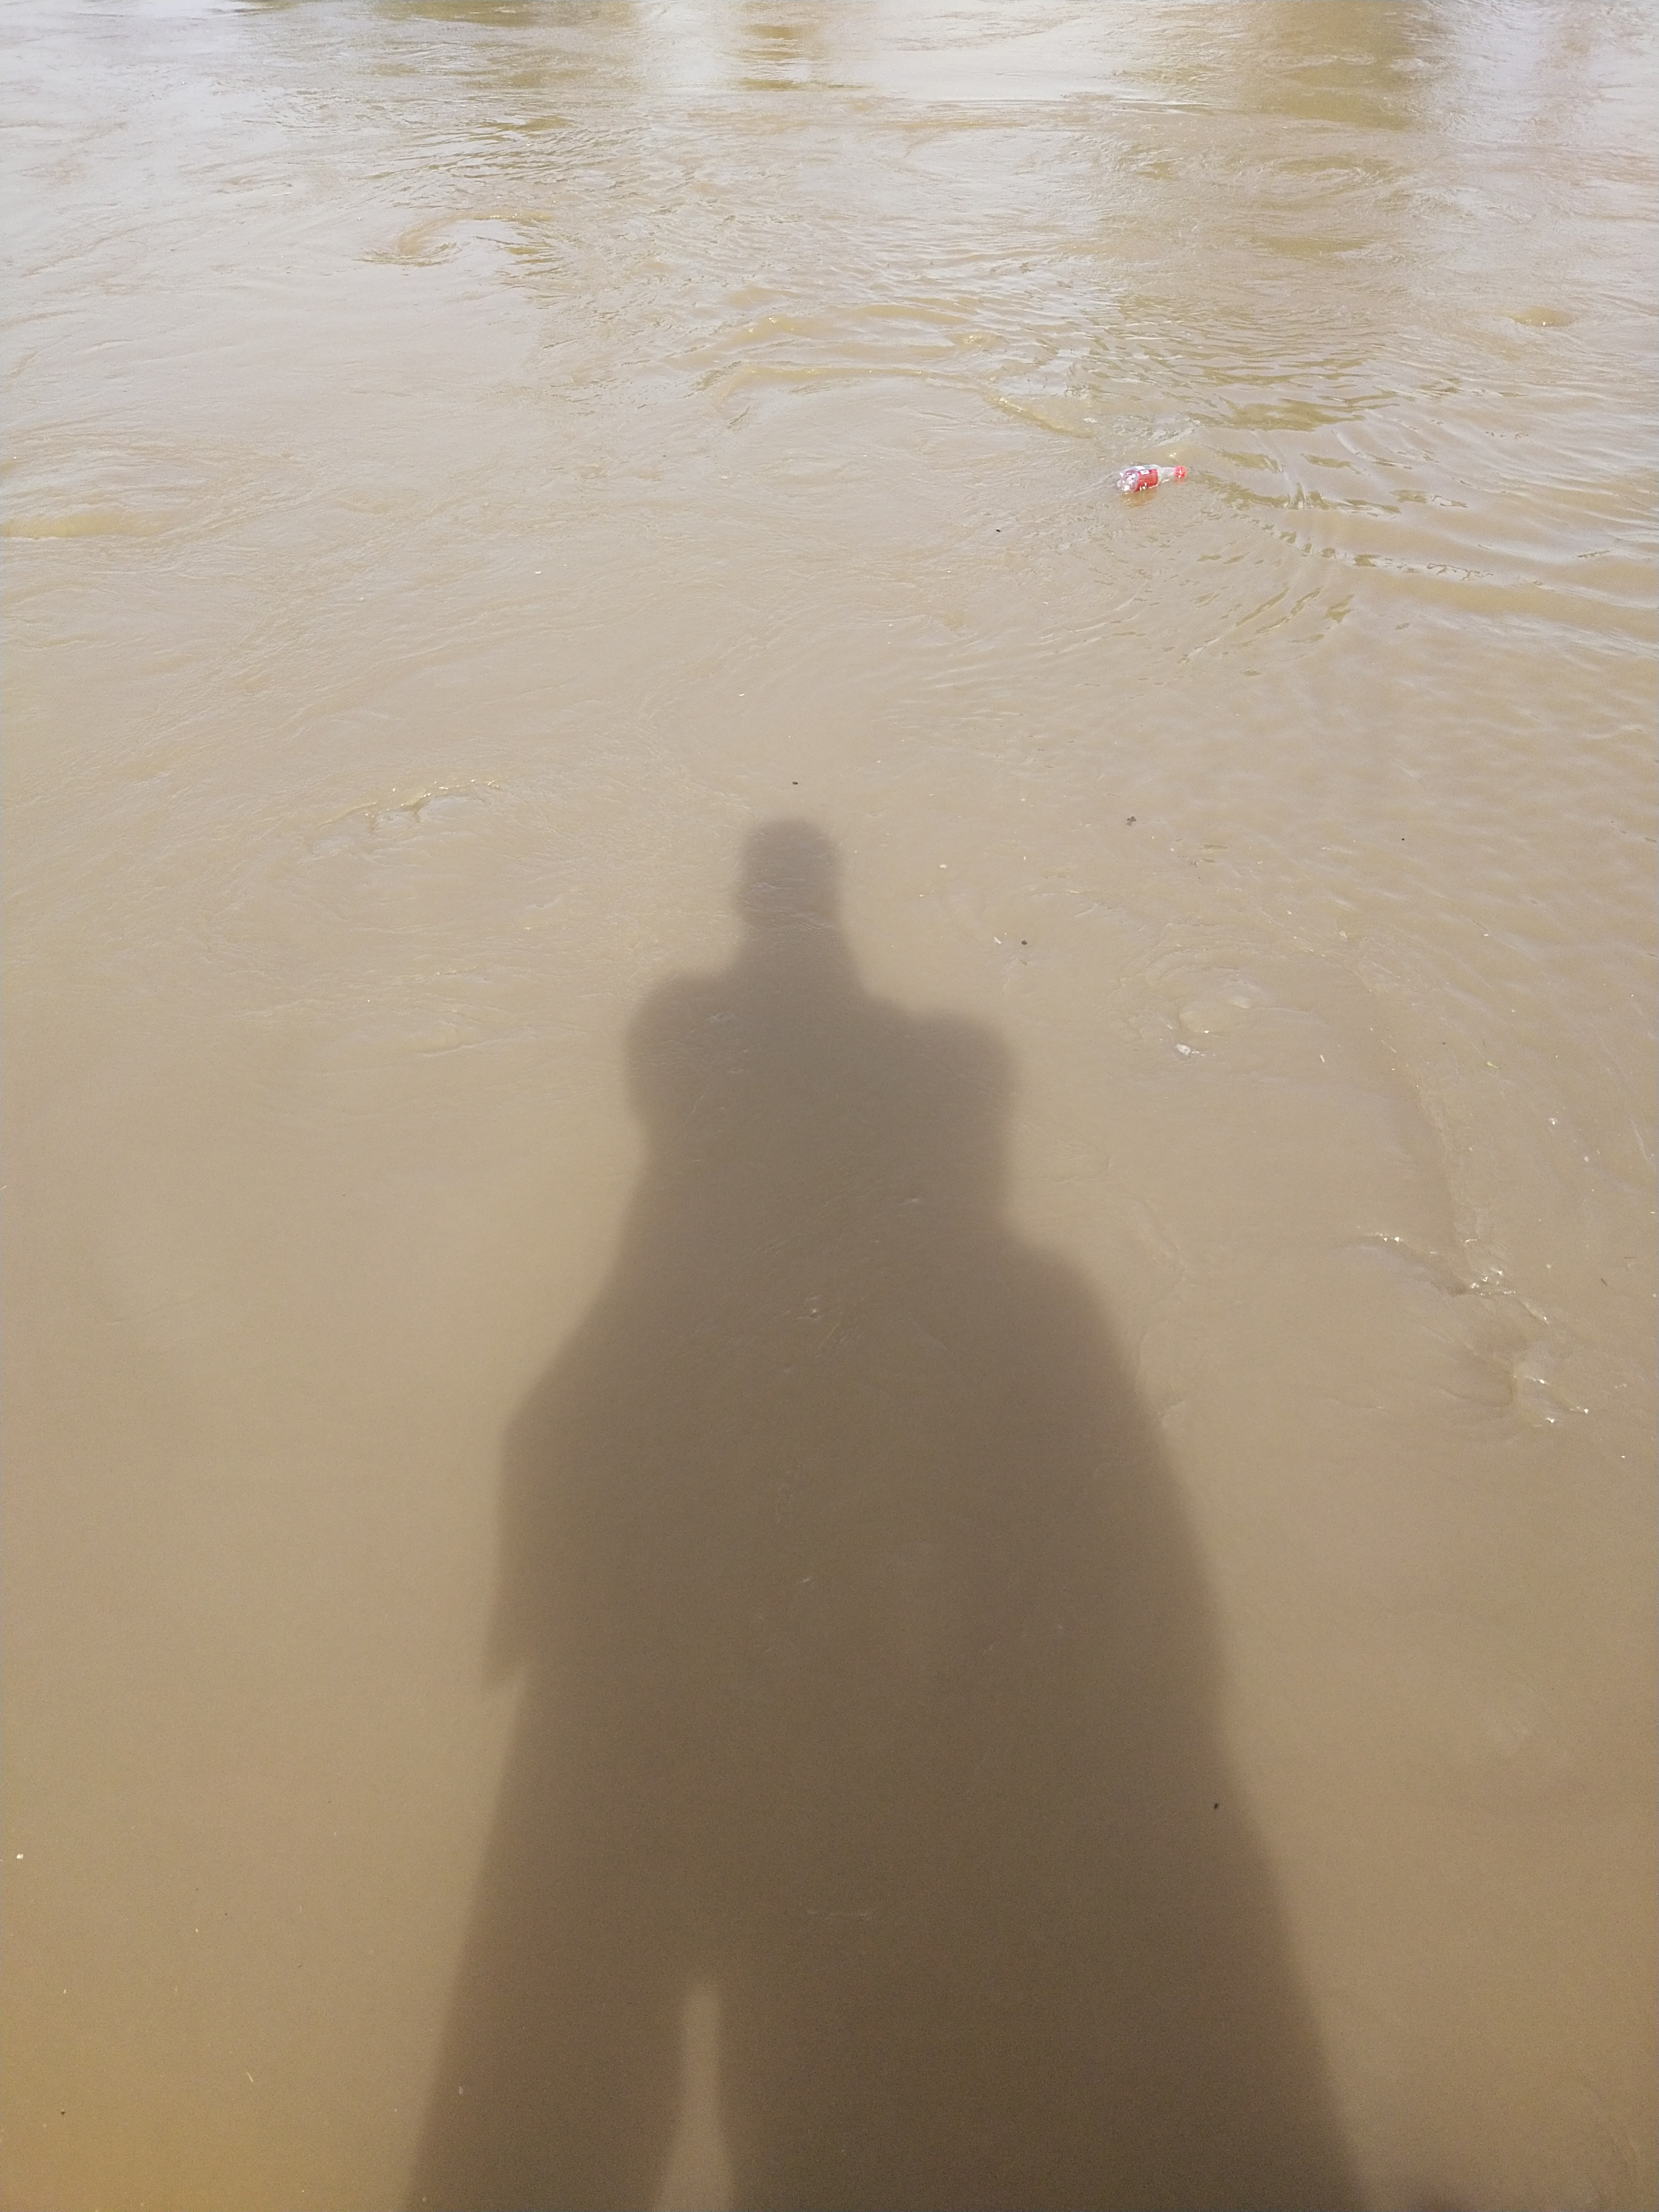Plastic Bottle: (1117, 463, 1187, 493)
